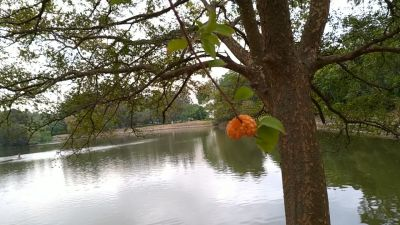eggs: (225, 114, 259, 140)
